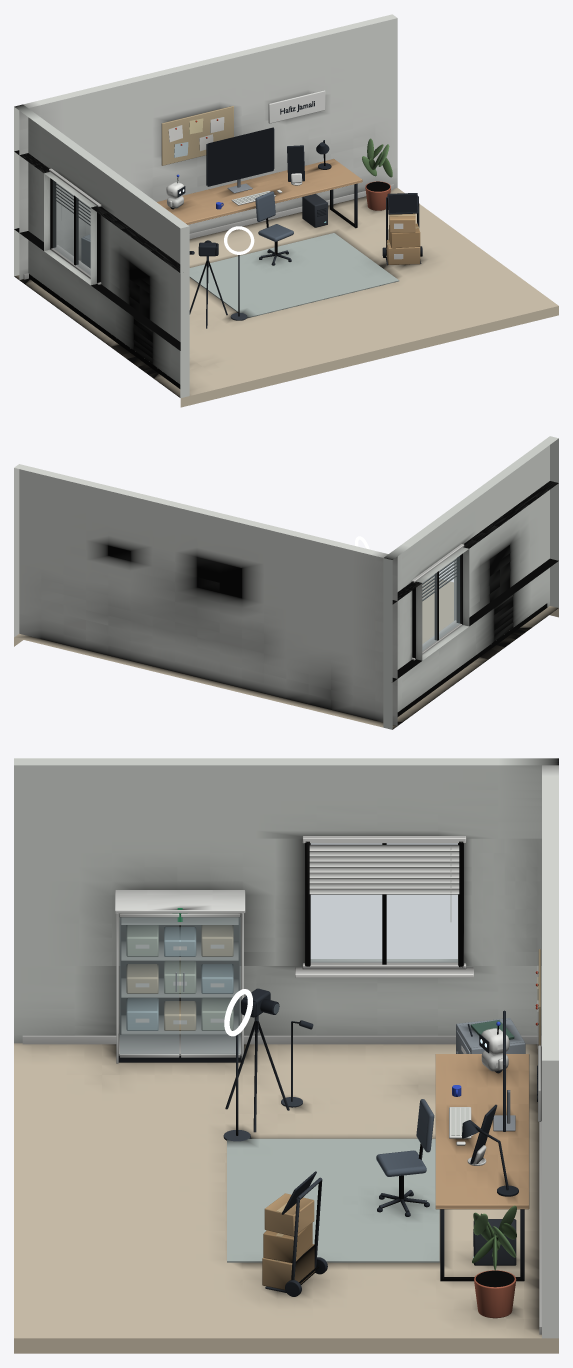
The model's file is workshop.glb.
3 renders of one model, top to bottom at view 1: azimuth 30°, elevation 25°; view 2: azimuth 150°, elevation 25°; view 3: azimuth 270°, elevation 25°, orthographic. The views are drawn at different scales.
Visible parts, largest first — view 1: wall_back, floor, rug, wall_left_front, wall_left_high, wall_left_low, desk_top, screen_theoses, wall_left_back, glass_window, board, sign_plate (+7 smaller); view 2: wall_back, wall_left_front, wall_left_high, wall_left_low, floor, wall_left_back, glass_window, skirting_left, frame_front; view 3: floor, wall_left_high, wall_left_front, wall_left_low, rug, desk_top, glass_window, wall_left_back, wall_back, glass_cab_door_l, glass_cab_door_r, cab_top (+36 smaller).
Boxes of the visible parts, x1,y1,x2,y2 form: wall_back: (19, 14, 397, 279); floor: (14, 188, 558, 407); rug: (189, 233, 399, 318); wall_left_front: (90, 206, 189, 350); wall_left_high: (14, 104, 189, 273); wall_left_low: (14, 229, 189, 398); desk_top: (157, 159, 362, 224); screen_theoses: (207, 127, 273, 186); wall_left_back: (14, 150, 50, 250); glass_window: (53, 180, 90, 275); board: (161, 106, 233, 165); sign_plate: (268, 90, 325, 123); wall_back: (14, 464, 397, 725); wall_left_front: (463, 481, 558, 626); wall_left_high: (383, 436, 558, 604); wall_left_low: (383, 561, 558, 729); floor: (14, 577, 558, 729); wall_left_back: (383, 581, 422, 682); glass_window: (422, 556, 459, 650); skirting_left: (397, 603, 547, 716); frame_front: (456, 553, 462, 624); floor: (14, 1043, 558, 1353); wall_left_high: (14, 758, 558, 838); wall_left_front: (14, 838, 304, 965); wall_left_low: (14, 959, 541, 1043); rug: (227, 1138, 439, 1262); desk_top: (435, 1054, 529, 1209); glass_window: (311, 843, 457, 962); wall_left_back: (464, 838, 541, 965); wall_back: (542, 765, 558, 1338); glass_cab_door_l: (120, 917, 178, 1054); glass_cab_door_r: (181, 917, 240, 1054); cab_top: (115, 890, 245, 913).
Bounding box in the file's own units: 8.4 × 3.8 × 6.4.
